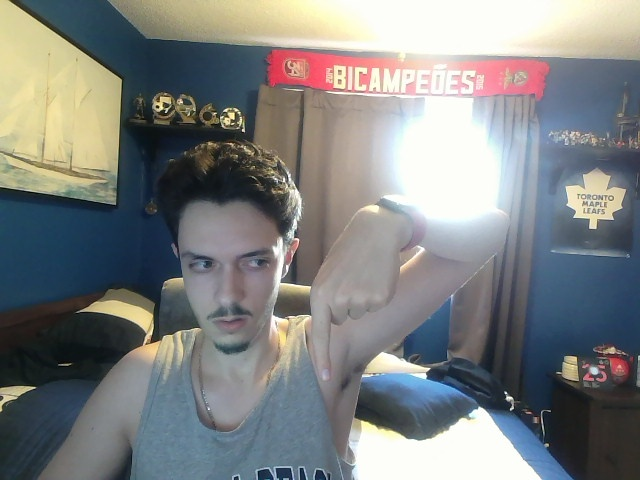Down: (309, 207, 400, 383)
